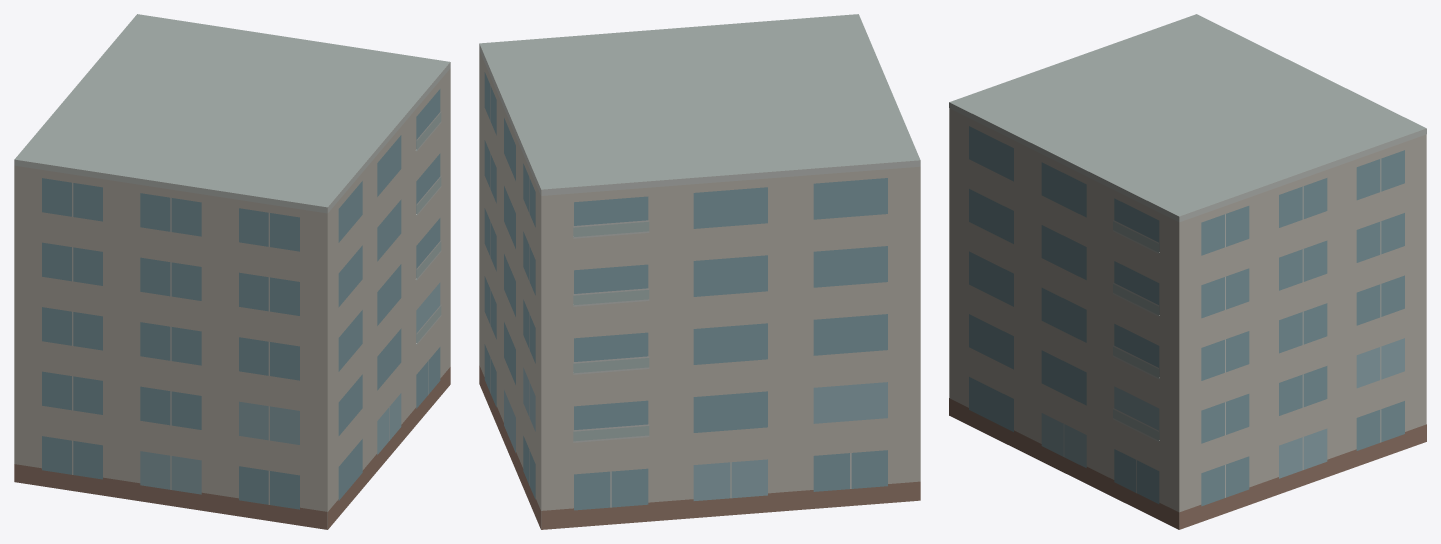
File: survey-upis-32731359.glb
3 renders of one model, left to right at view 1: azimuth 30°, elevation 25°; view 2: azimuth 150°, elevation 25°; view 3: azimuth 270°, elevation 25°, orthographic. The views are drawn at different scales.
Visible parts, largest first — view 1: survey-upis-32731359.tmp; view 2: survey-upis-32731359.tmp; view 3: survey-upis-32731359.tmp.
Part boxes in pixels (x1=…): survey-upis-32731359.tmp: x1=14, y1=14, x2=450, y2=529; survey-upis-32731359.tmp: x1=479, y1=14, x2=920, y2=529; survey-upis-32731359.tmp: x1=949, y1=14, x2=1426, y2=529.
Bounding box in the file's own units: 18.03 × 13 × 17.97.
